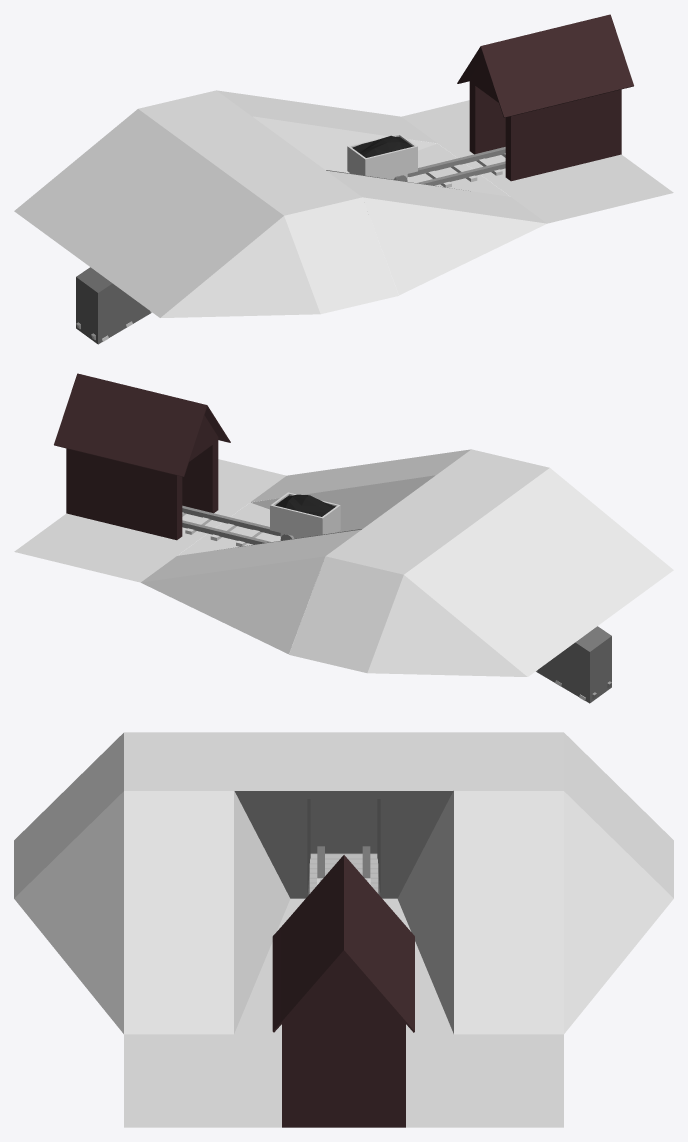
The model's file is fac_coal_1.fbx.
3 renders of one model, top to bottom at view 1: azimuth 30°, elevation 25°; view 2: azimuth 150°, elevation 25°; view 3: azimuth 270°, elevation 25°, orthographic. The views are drawn at different scales.
Parts seen in each view (by area): view 1: Kaivos.001, Shelter, Maa, Kaivos, Cube, Rail0.004, Plane; view 2: Kaivos.001, Shelter, Maa, Kaivos, Cube, Rail0.004, Plane; view 3: Kaivos.001, Shelter, Maa, Kaivos, Rail0.005.
Boxes of the visible parts, x1,y1,x2,y2 form: Kaivos.001: [14, 90, 673, 317]; Shelter: [457, 14, 633, 181]; Maa: [253, 116, 509, 196]; Kaivos: [76, 267, 150, 344]; Cube: [347, 133, 417, 179]; Rail0.004: [407, 147, 505, 187]; Plane: [352, 135, 412, 157]; Kaivos.001: [14, 449, 673, 676]; Shelter: [54, 373, 230, 540]; Maa: [178, 475, 434, 555]; Kaivos: [537, 626, 611, 703]; Cube: [270, 492, 340, 538]; Rail0.004: [182, 505, 280, 546]; Plane: [275, 494, 335, 516]; Kaivos.001: [14, 732, 673, 1127]; Shelter: [272, 855, 414, 1127]; Maa: [234, 790, 453, 1034]; Kaivos: [234, 791, 453, 898]; Rail0.005: [309, 846, 378, 893].
Bounding box in the file's own units: 1025 × 362 × 740.
